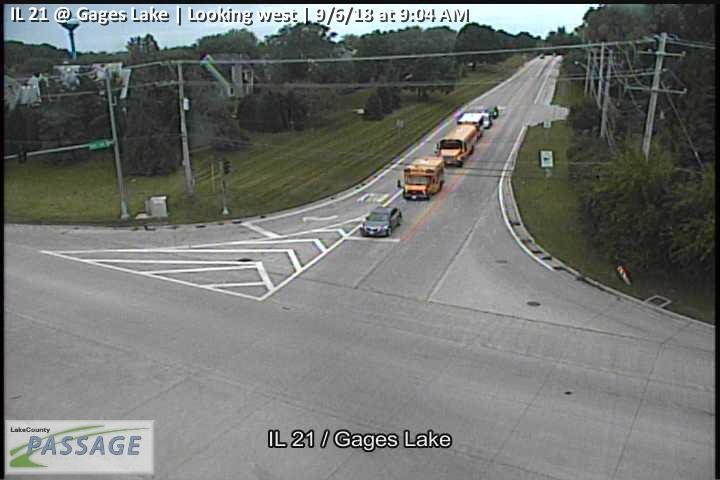Bus: (397, 157, 445, 199), (438, 123, 477, 167)
SUV: (486, 105, 499, 118)
Sedan: (359, 205, 403, 237)
Truck: (457, 112, 484, 138)
